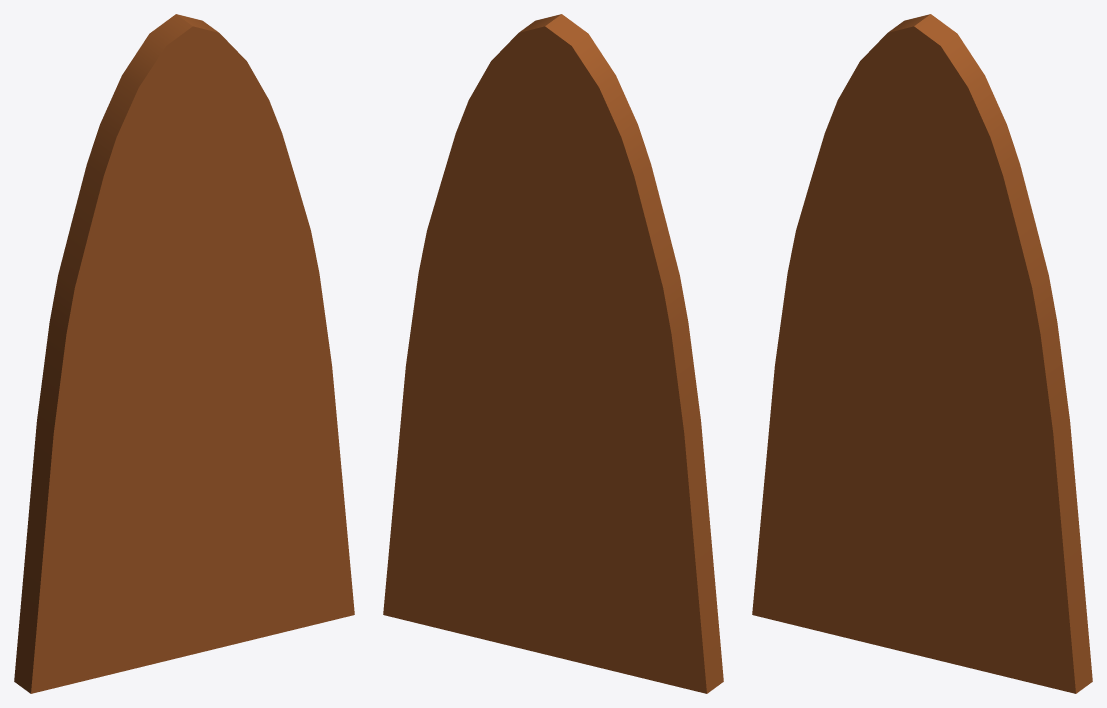
File: door_room.glb
The picture shows the model from 3 angles, left to right: view 1: azimuth 30°, elevation 25°; view 2: azimuth 150°, elevation 25°; view 3: azimuth 330°, elevation 25°; orthographic projection.
Visible parts, largest first — view 1: DoorRoom-EXPORT; view 2: DoorRoom-EXPORT; view 3: DoorRoom-EXPORT.
Part boxes in pixels (<box>): DoorRoom-EXPORT: <box>14,14,354,693</box>; DoorRoom-EXPORT: <box>383,14,723,693</box>; DoorRoom-EXPORT: <box>752,14,1092,693</box>.
Size of the model in its own units: 1.67 by 3.09 by 0.15.
